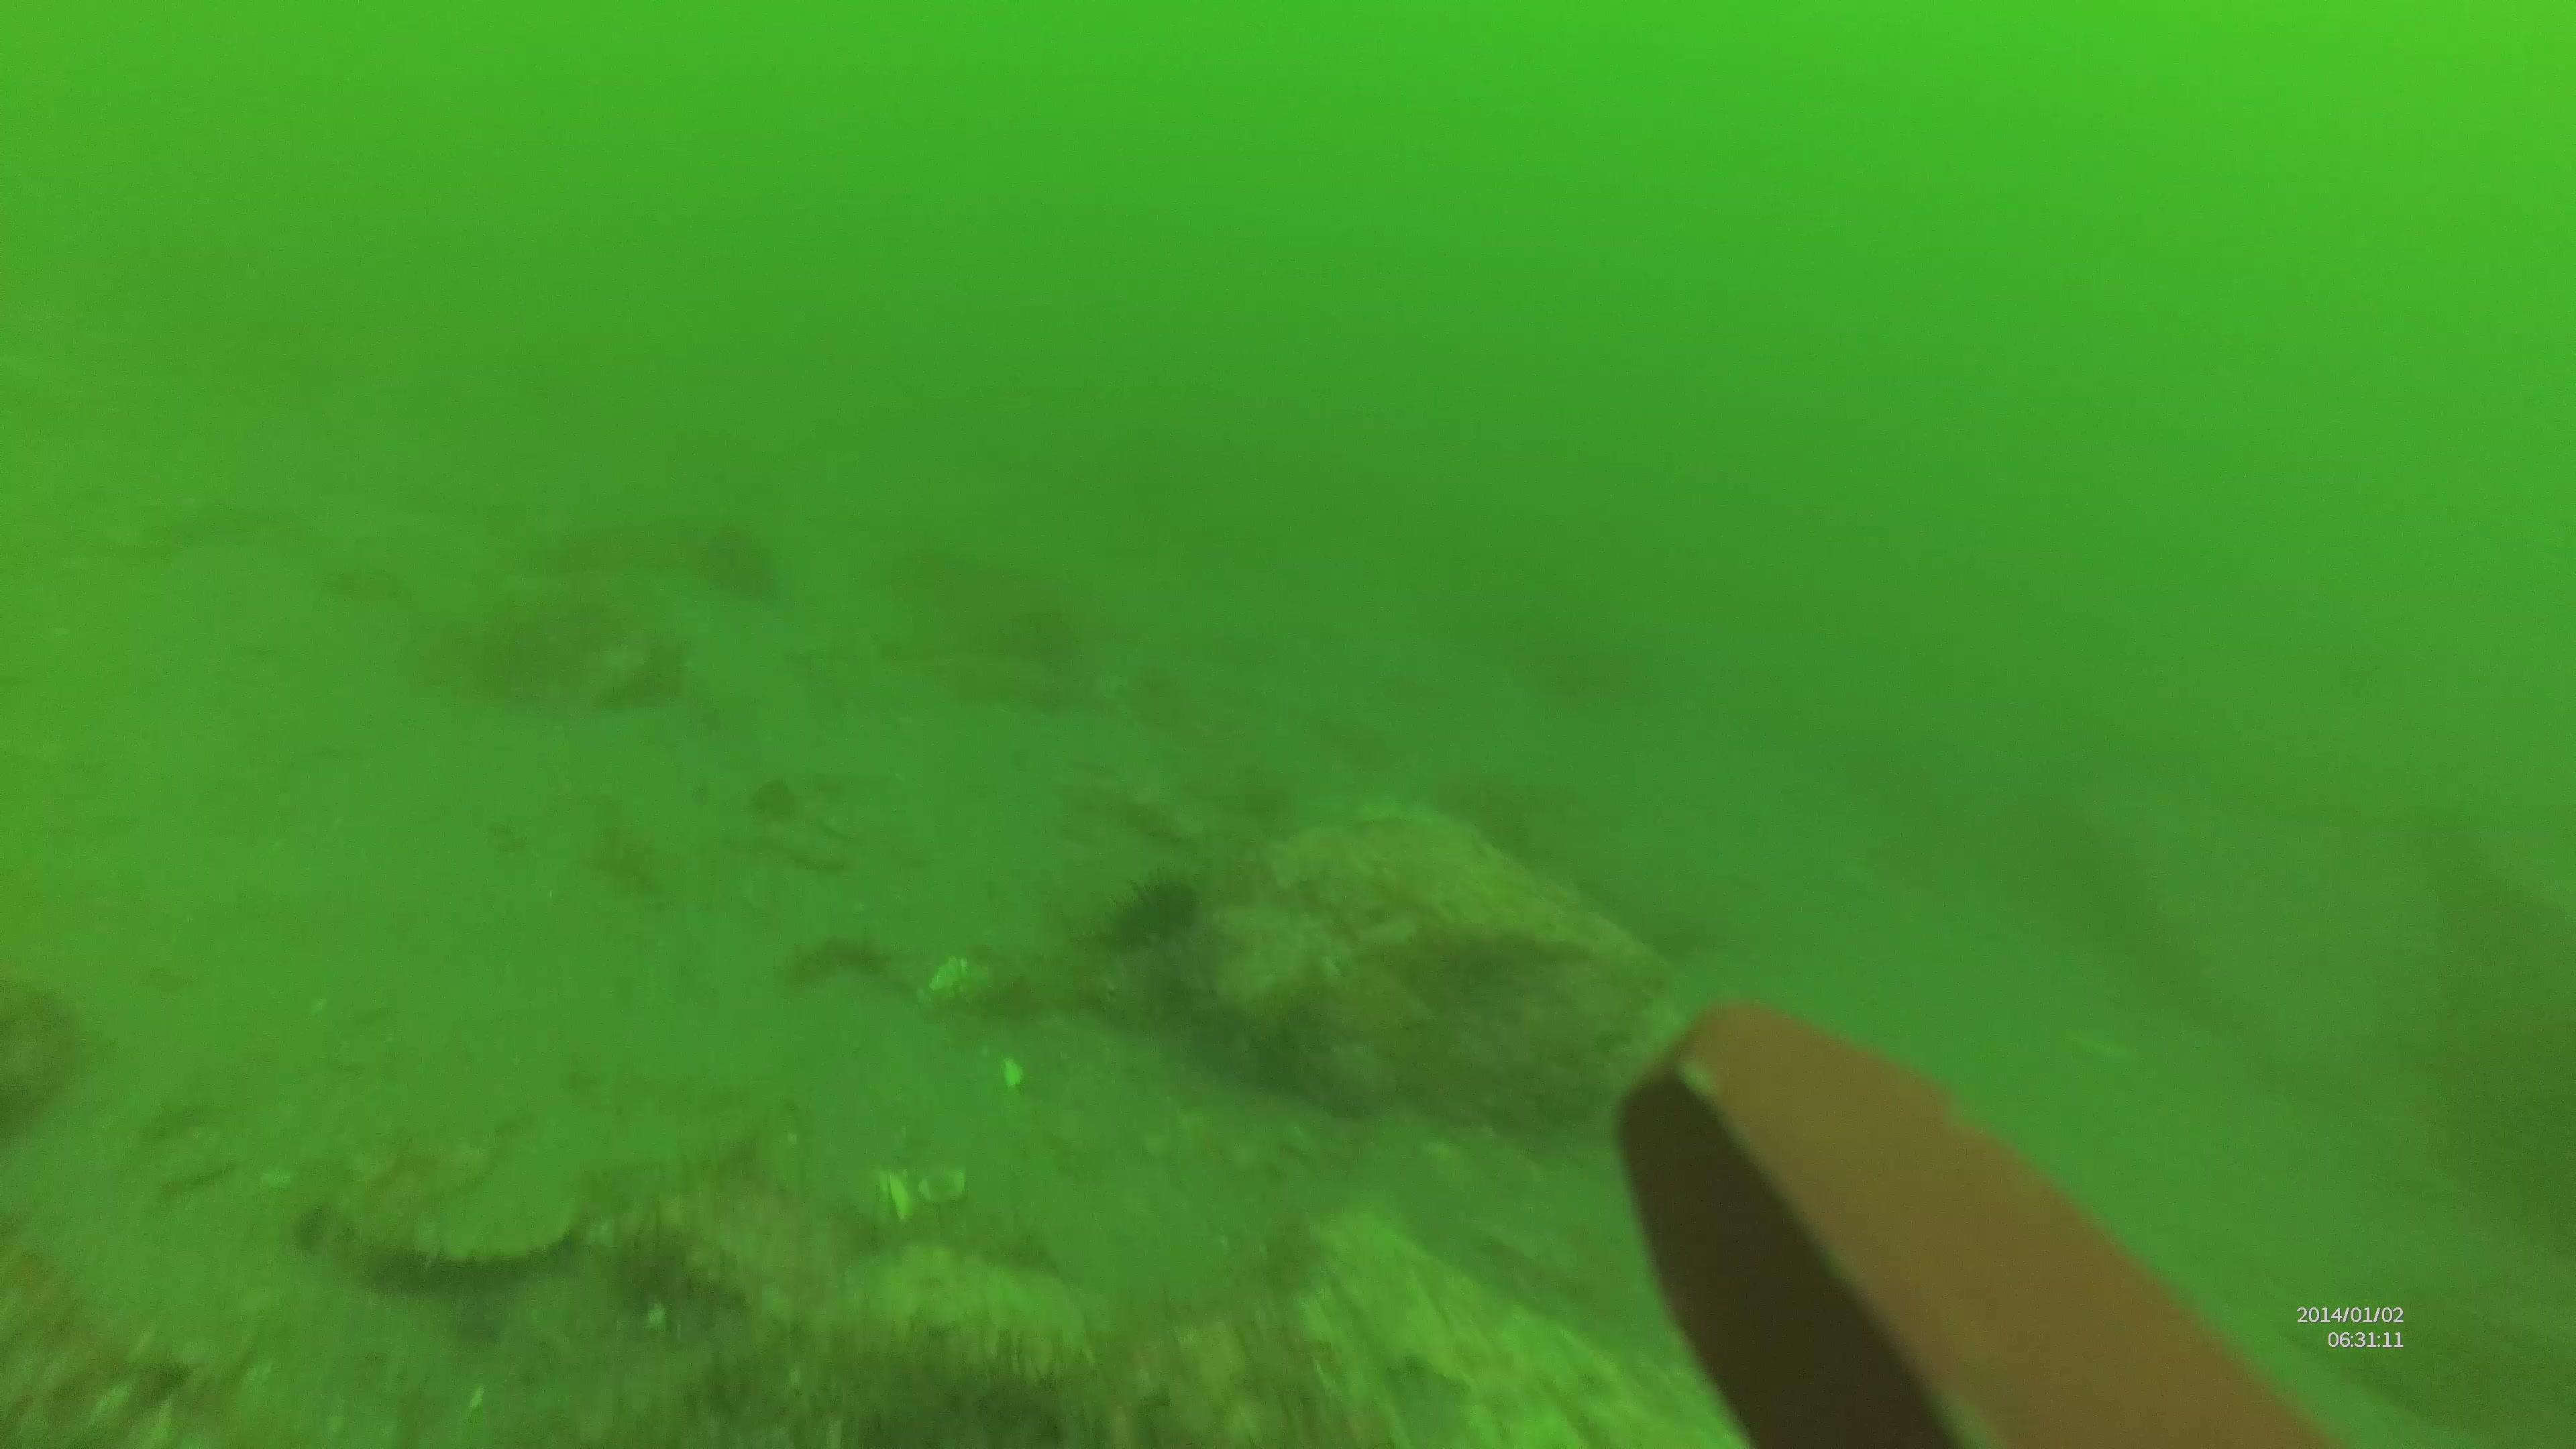echinus: (1104, 872, 1217, 971)
